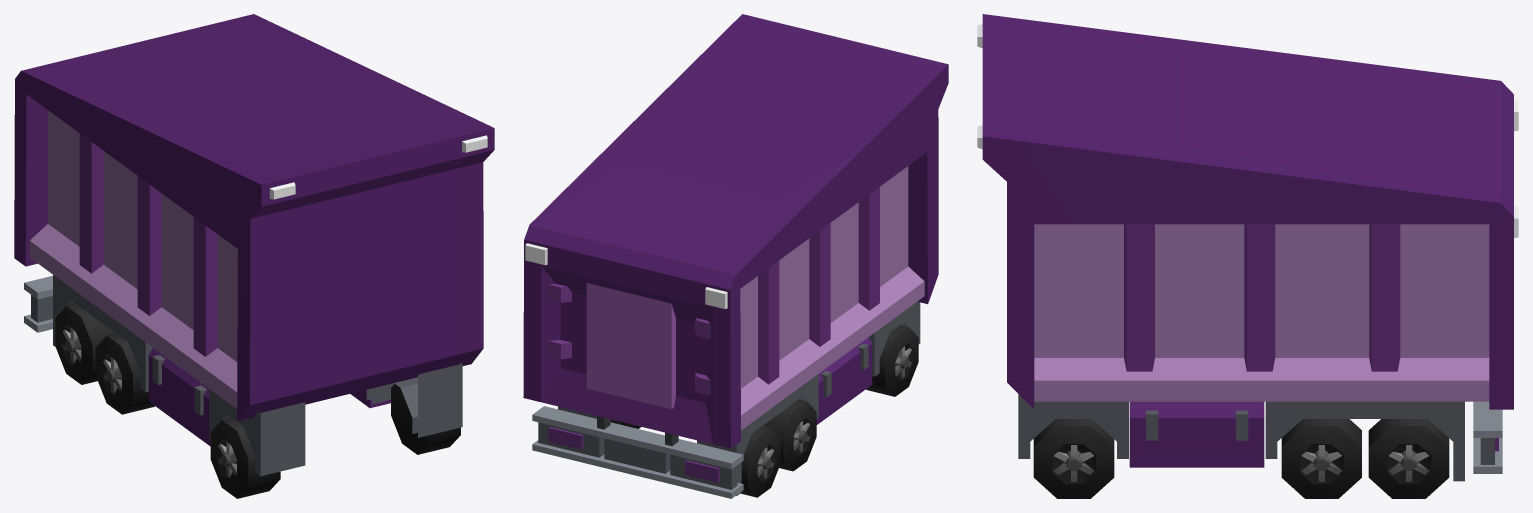
Rendered from cargo_04_C_2.fbx.
3 renders of one model, left to right at view 1: azimuth 30°, elevation 25°; view 2: azimuth 150°, elevation 25°; view 3: azimuth 270°, elevation 25°, orthographic. The views are drawn at different scales.
Visible parts, largest first — view 1: cargo_04_C_2; view 2: cargo_04_C_2; view 3: cargo_04_C_2.
Part boxes in pixels (x1,y1,x2,y2): cargo_04_C_2: (14,14,494,498); cargo_04_C_2: (523,14,948,498); cargo_04_C_2: (977,14,1518,498).
Size of the model in its own units: 1381 by 1924 by 2567.
